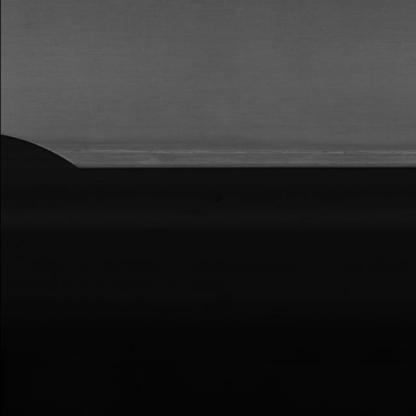crescent_gap: (0, 129, 93, 174)
